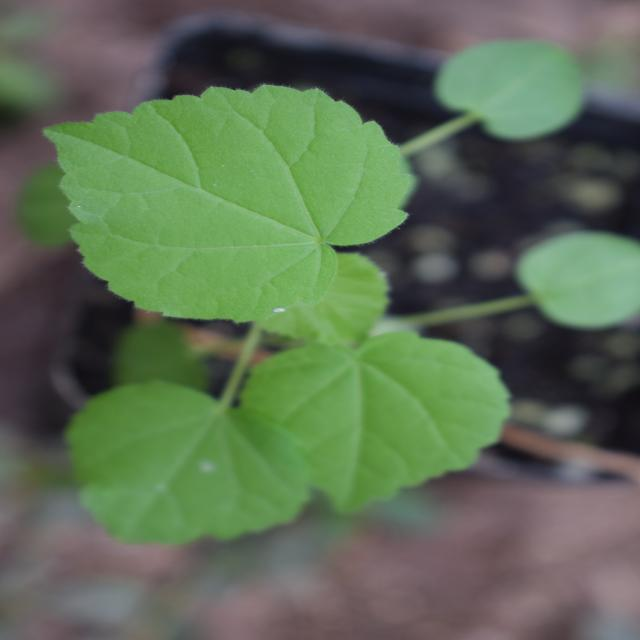abutilon theophrasti: (0, 56, 556, 602)
